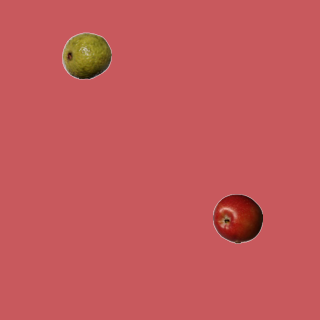Apple Braeburn: (212, 193, 262, 243)
Guava: (61, 30, 111, 80)
